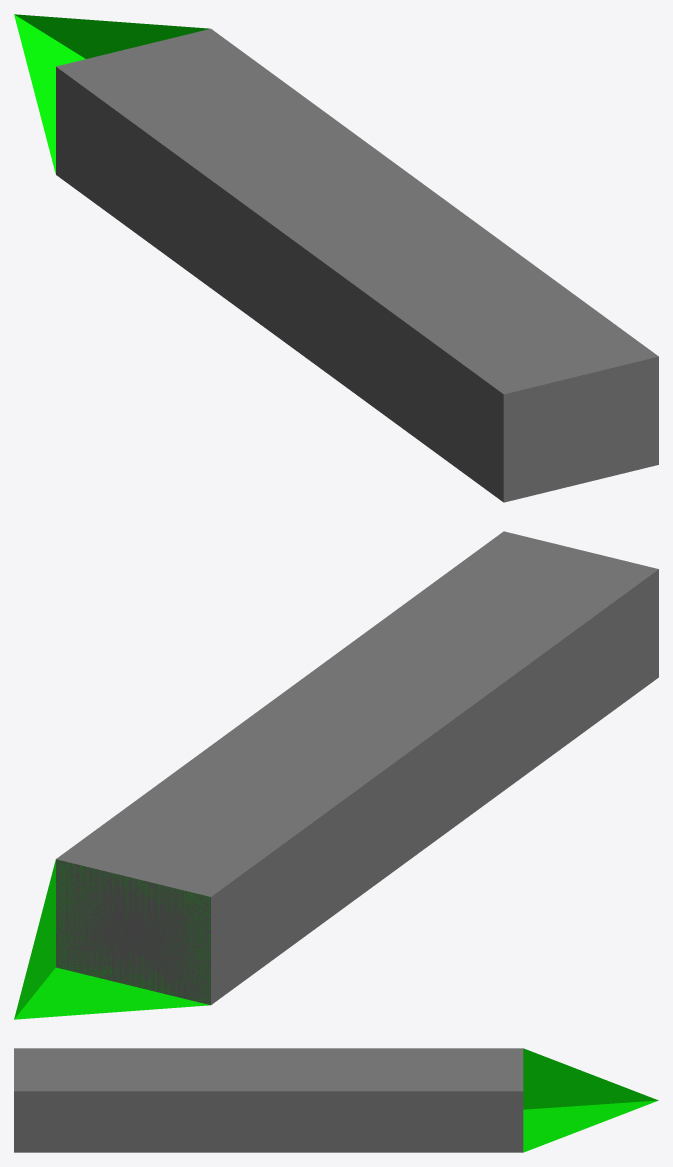
3 renders of one model, top to bottom at view 1: azimuth 30°, elevation 25°; view 2: azimuth 150°, elevation 25°; view 3: azimuth 270°, elevation 25°, orthographic. The views are drawn at different scales.
Visible parts, largest first — view 1: Ship_Body, Cockpit; view 2: Ship_Body, Cockpit; view 3: Ship_Body, Cockpit.
Boxes of the visible parts, box(x1,y1,x2,y2) form: Ship_Body: box(56, 28, 658, 502); Cockpit: box(14, 14, 209, 174); Ship_Body: box(56, 531, 658, 1004); Cockpit: box(14, 859, 210, 1019); Ship_Body: box(14, 1048, 523, 1152); Cockpit: box(523, 1048, 658, 1152).
Size of the model in its own units: 0.6 by 0.4 by 3.8.
